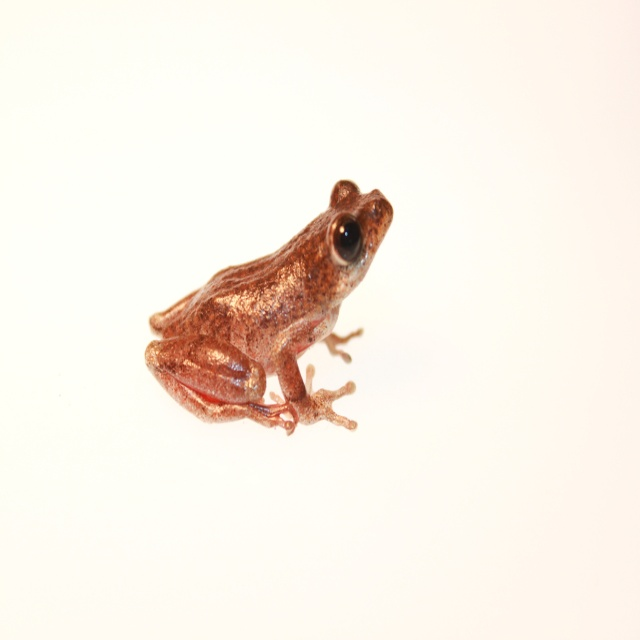Frog: (144, 180, 392, 435)
